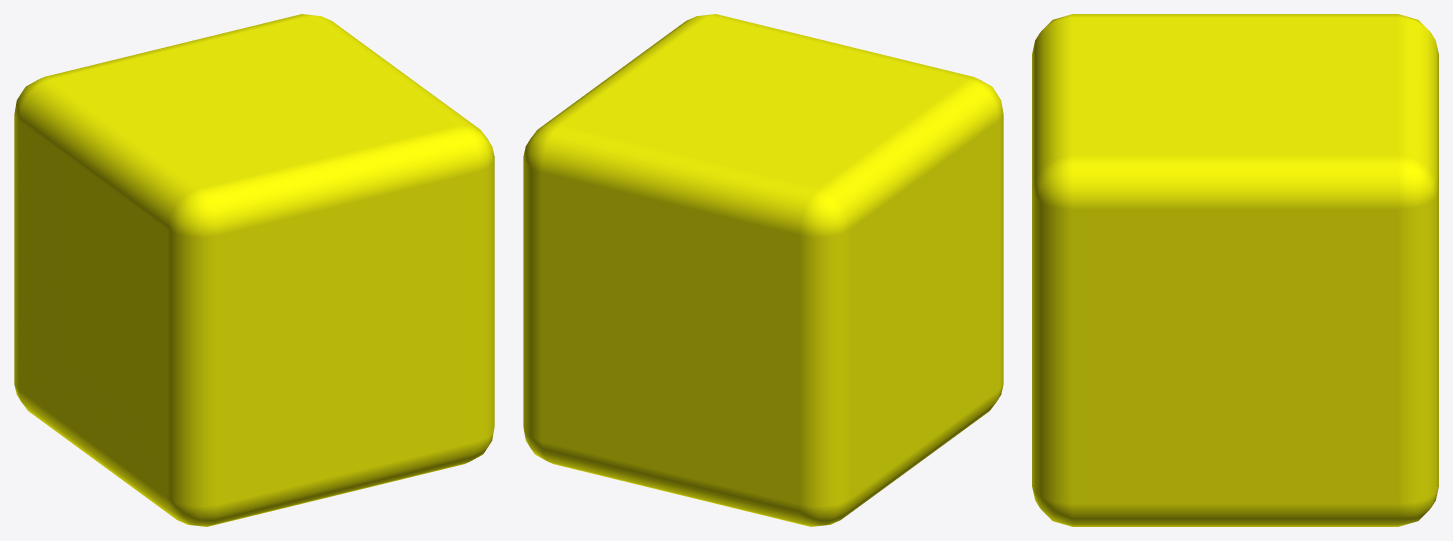
3 renders of one model, left to right at view 1: azimuth 30°, elevation 25°; view 2: azimuth 150°, elevation 25°; view 3: azimuth 270°, elevation 25°, orthographic. The views are drawn at different scales.
Visible parts, largest first — view 1: Cube (Change color here pls); view 2: Cube (Change color here pls); view 3: Cube (Change color here pls).
Boxes of the visible parts, x1,y1,x2,y2 form: Cube (Change color here pls): (14,14,494,526); Cube (Change color here pls): (523,14,1003,526); Cube (Change color here pls): (1032,14,1438,526).
Bounding box in the file's own units: 1 × 0.9954 × 0.9985.
